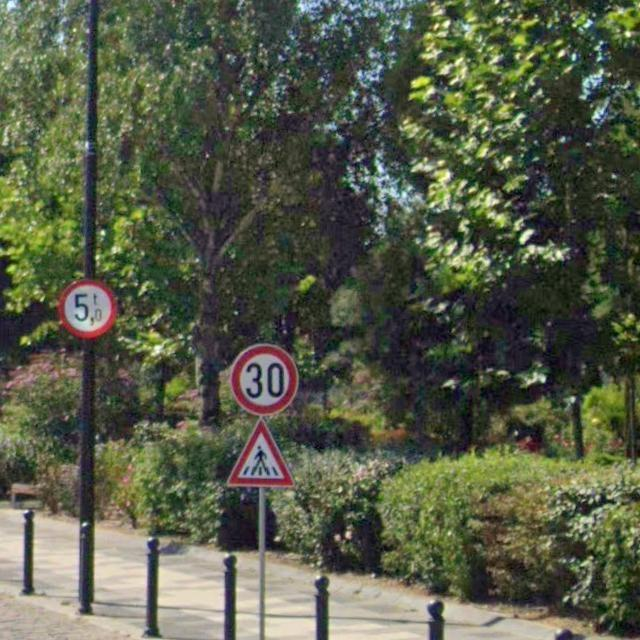forb_speed_over_30: (230, 346, 299, 416)
warn_crosswalk: (226, 417, 295, 488)
